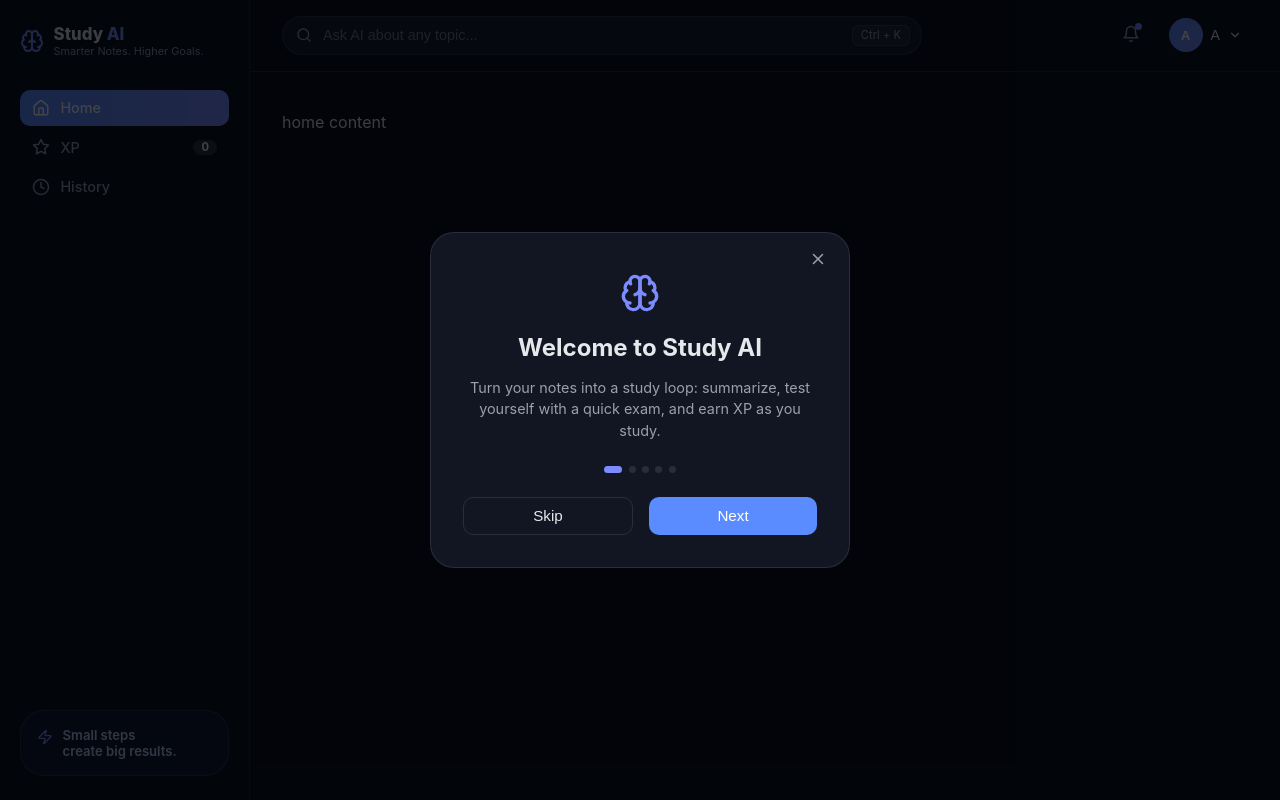
AppLayout onboarding › dismissing onboarding reveals the page content underneath
This screenshot has width=1280, height=800.
Click the button "Skip". click: [548, 516]
box: [463,496,633,535]
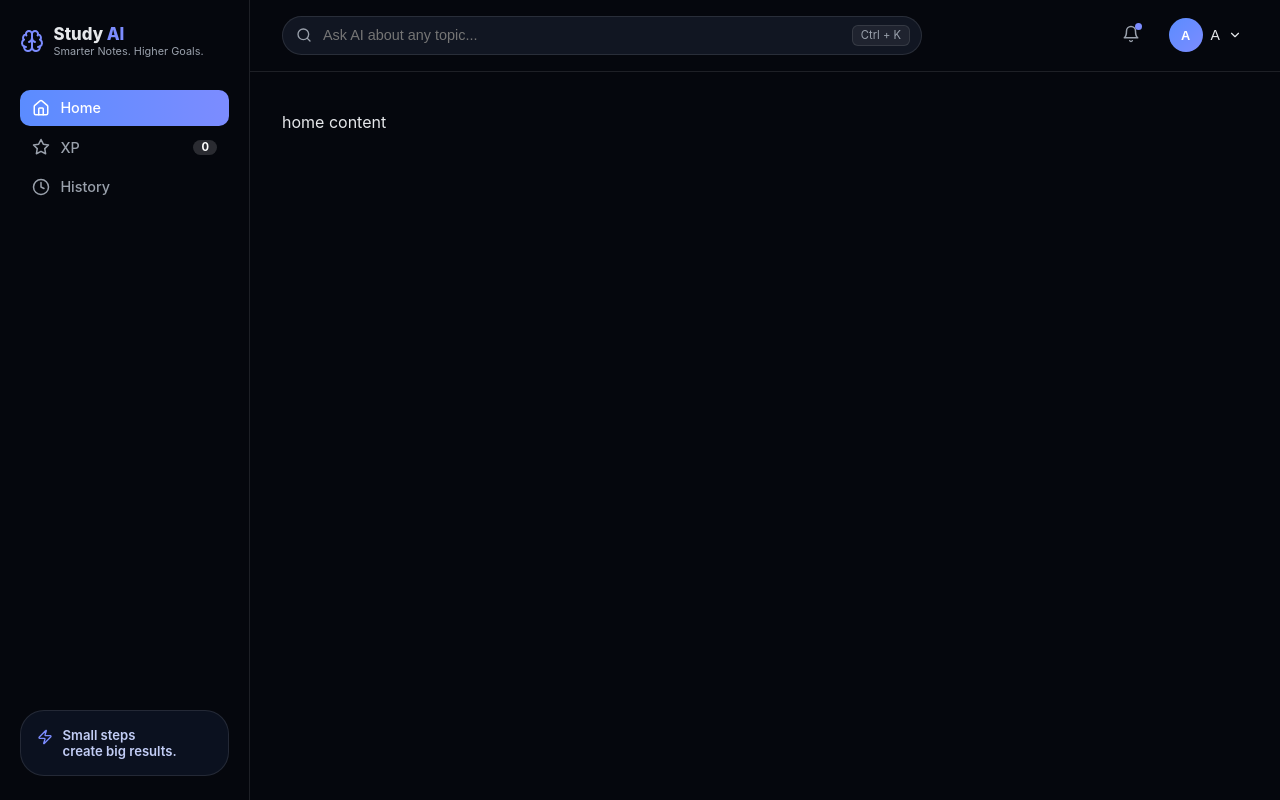
Expected: the text "home content" is shown, [282,112,386,132]
Now the heading "Welcome to Study AI" is gone
